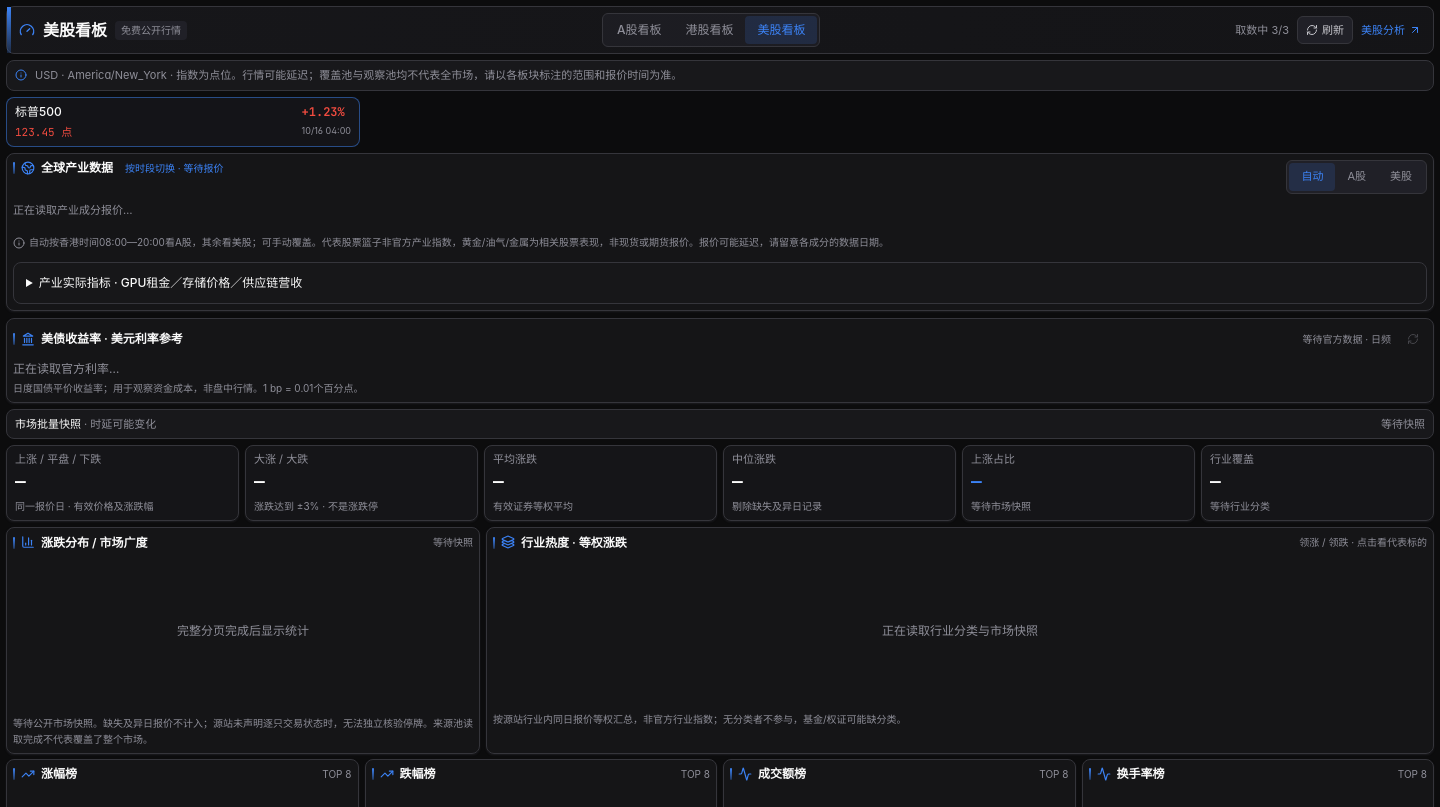
Test case: renders immediate progress, partial missing quotes, explicit stale and refresh errors
Click the button "刷新": (1325, 30) [1297,16,1353,44]
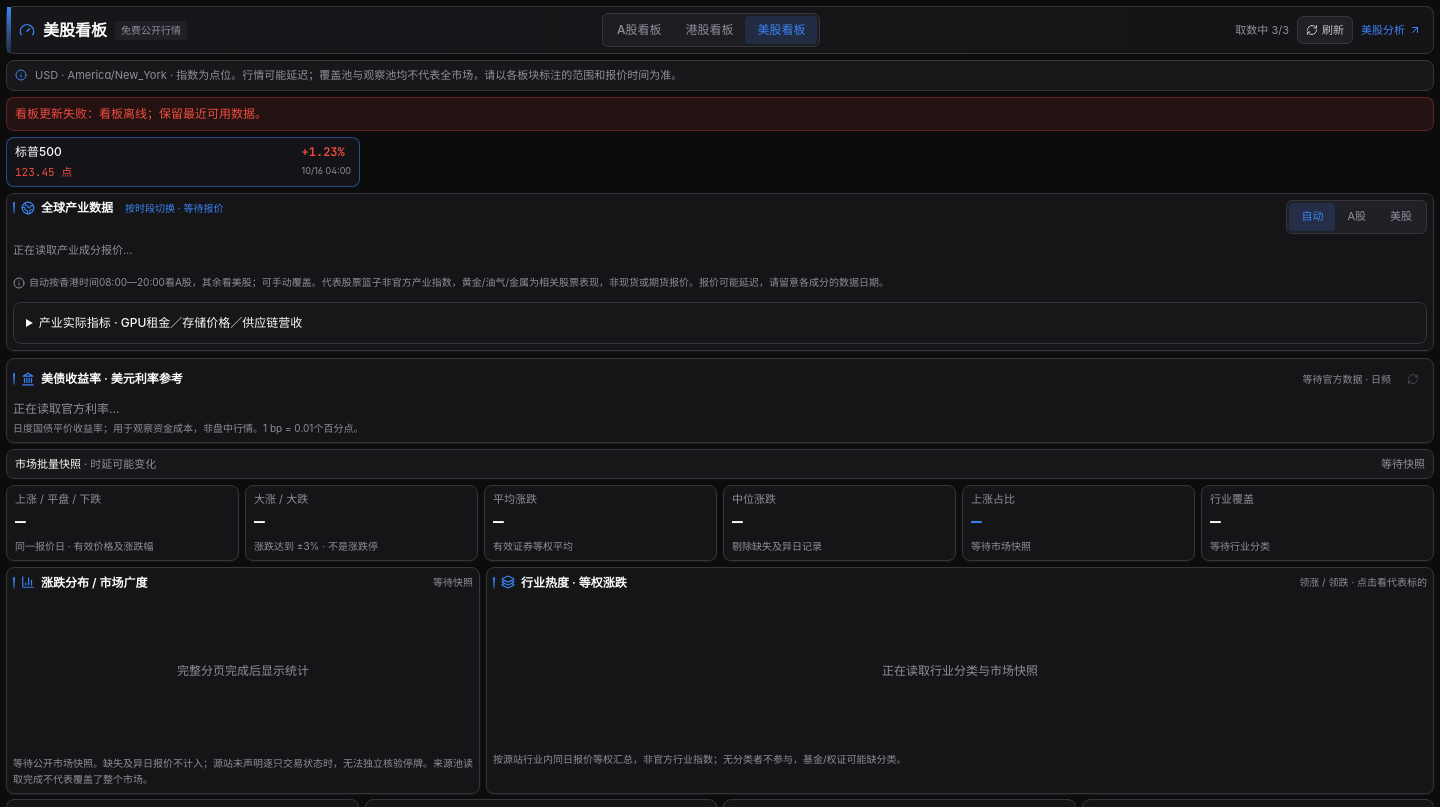
expect the text "看板更新失败" is shown: met, box [15,106,99,120]
expect the text "保留最近可用数据" is shown: met, box [147,106,267,120]
